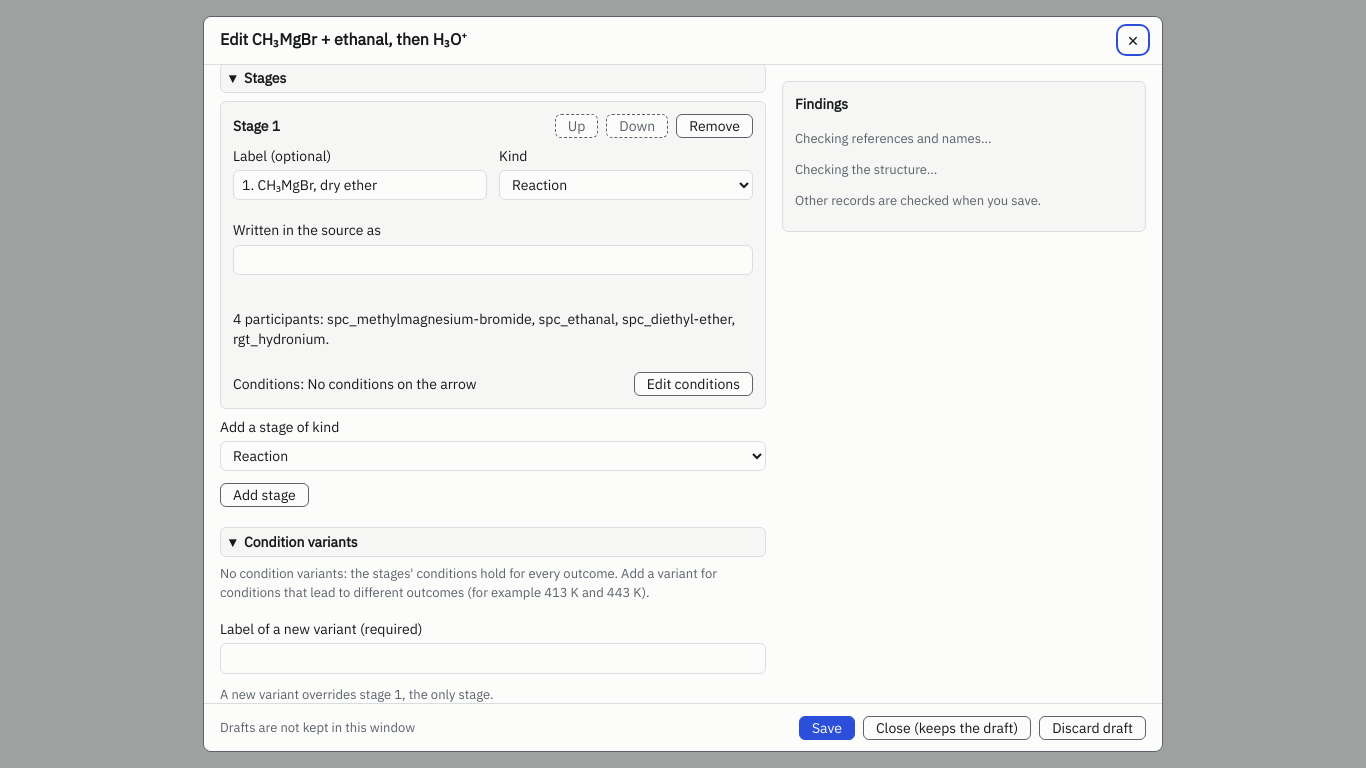
Scenario: the conditions form › pressure and time: their own units and words; time has no range
The width and height of the screenshot is (1366, 768).
(page scrolled)
Click the button with aria-label "Edit conditions of stage 1": (693, 384) [634, 372, 753, 396]
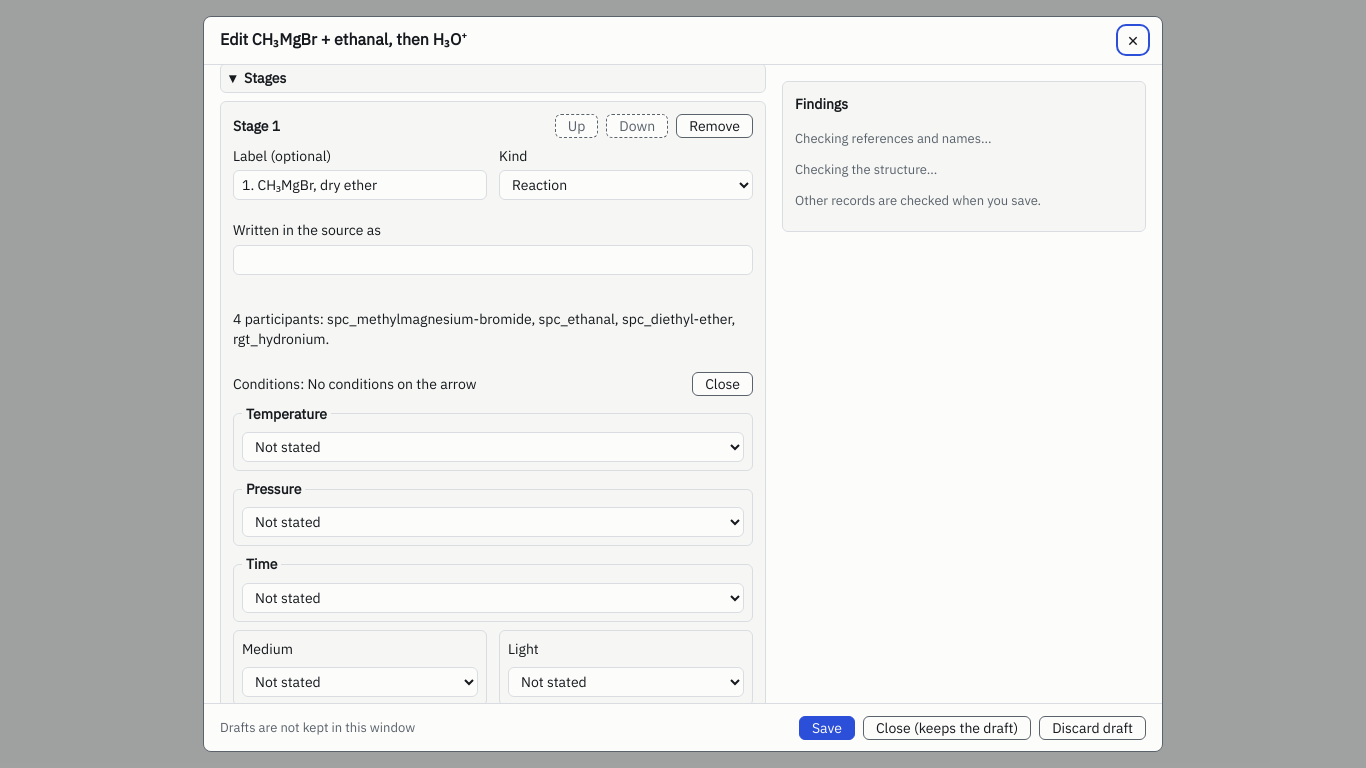
Select "A value" in the dropdown named "Pressure kind of stage 1": (493, 522) [242, 507, 744, 537]
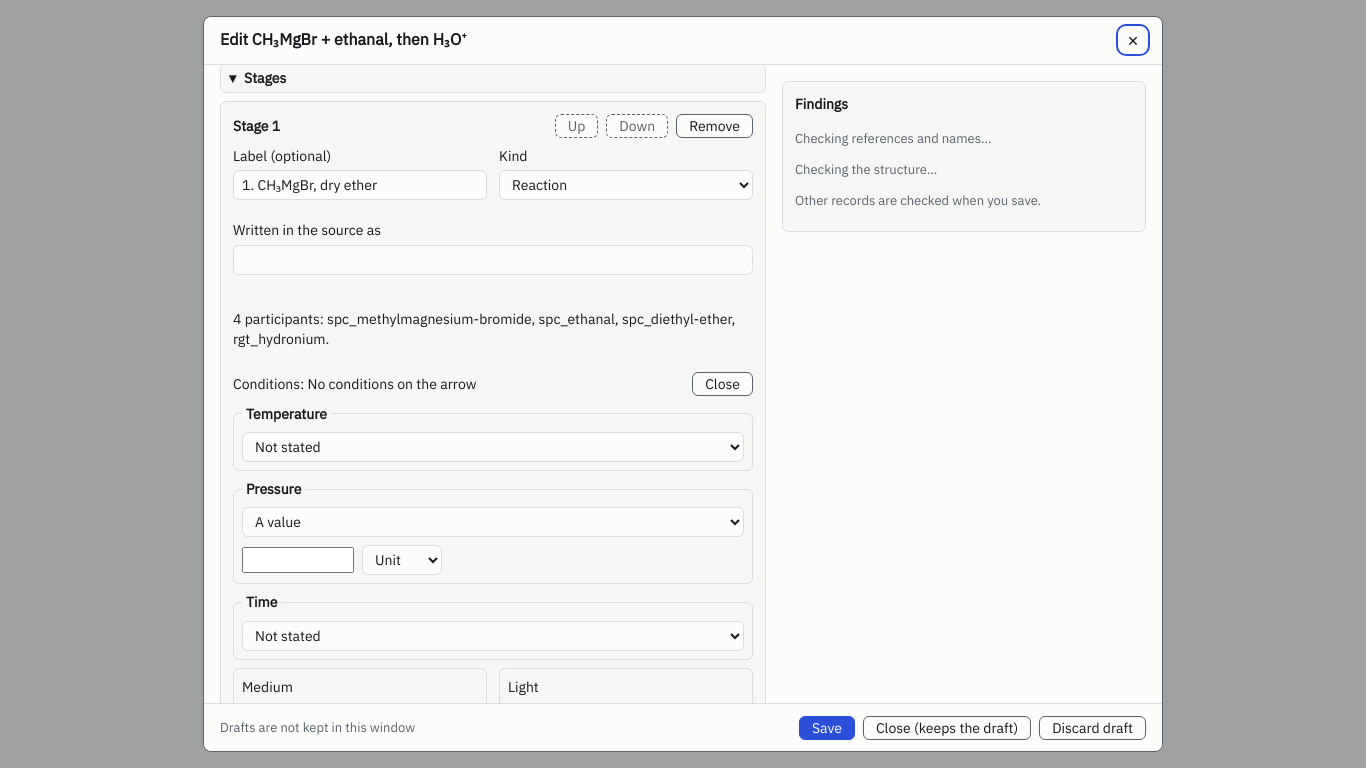
In the number field named "Pressure value of stage 1": (298, 560) [242, 547, 354, 573], type "60"
Select "atm" in the dropdown named "Pressure unit of stage 1": (402, 560) [362, 545, 442, 575]
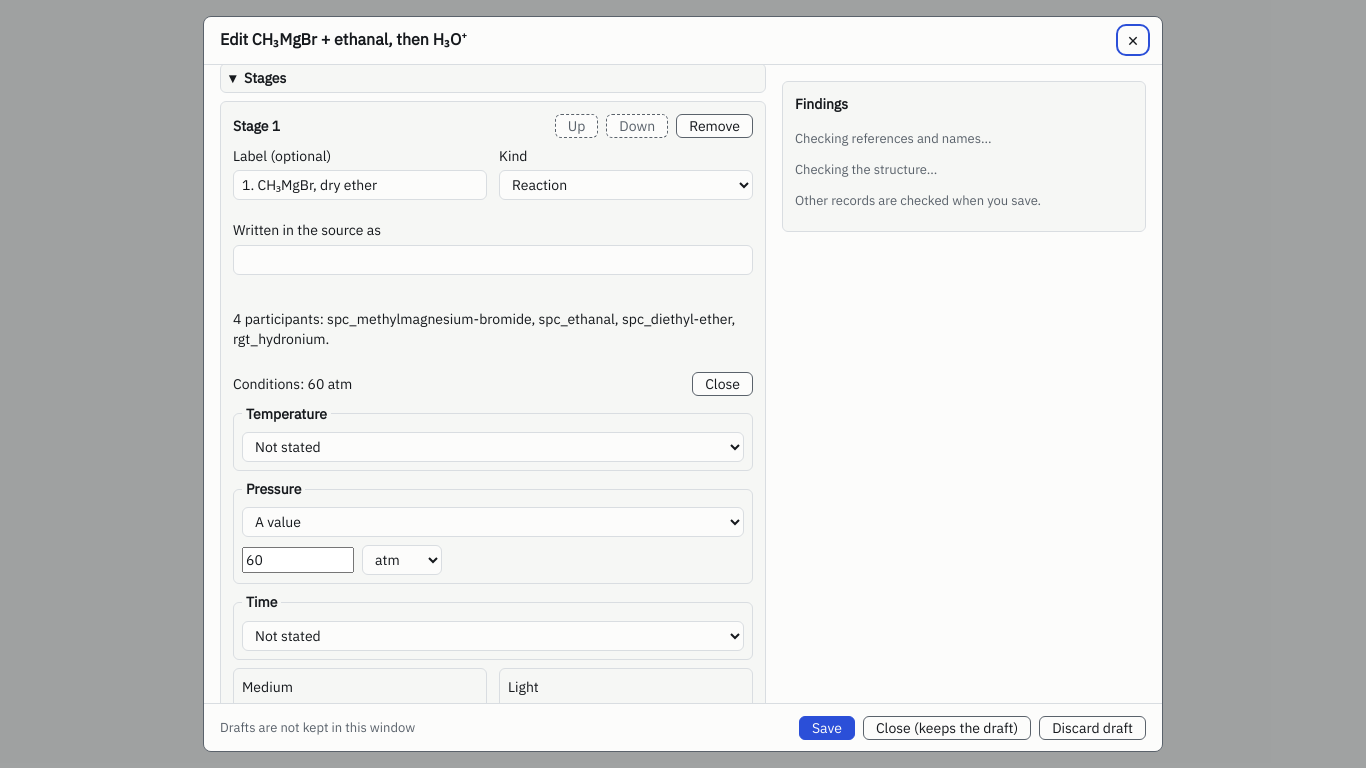
Select "A value" in the dropdown named "Time kind of stage 1": (493, 636) [242, 620, 744, 650]
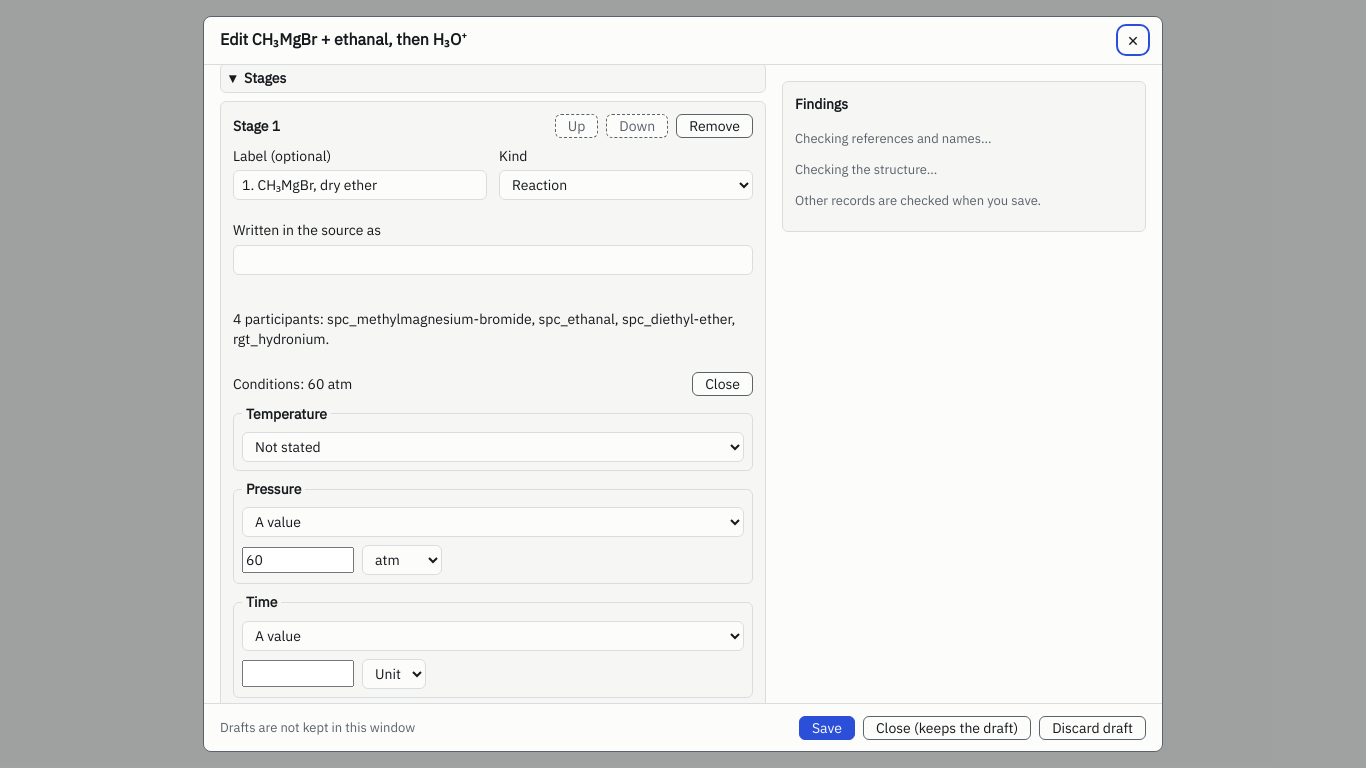
In the number field named "Time value of stage 1": (298, 674) [242, 660, 354, 687], type "2"
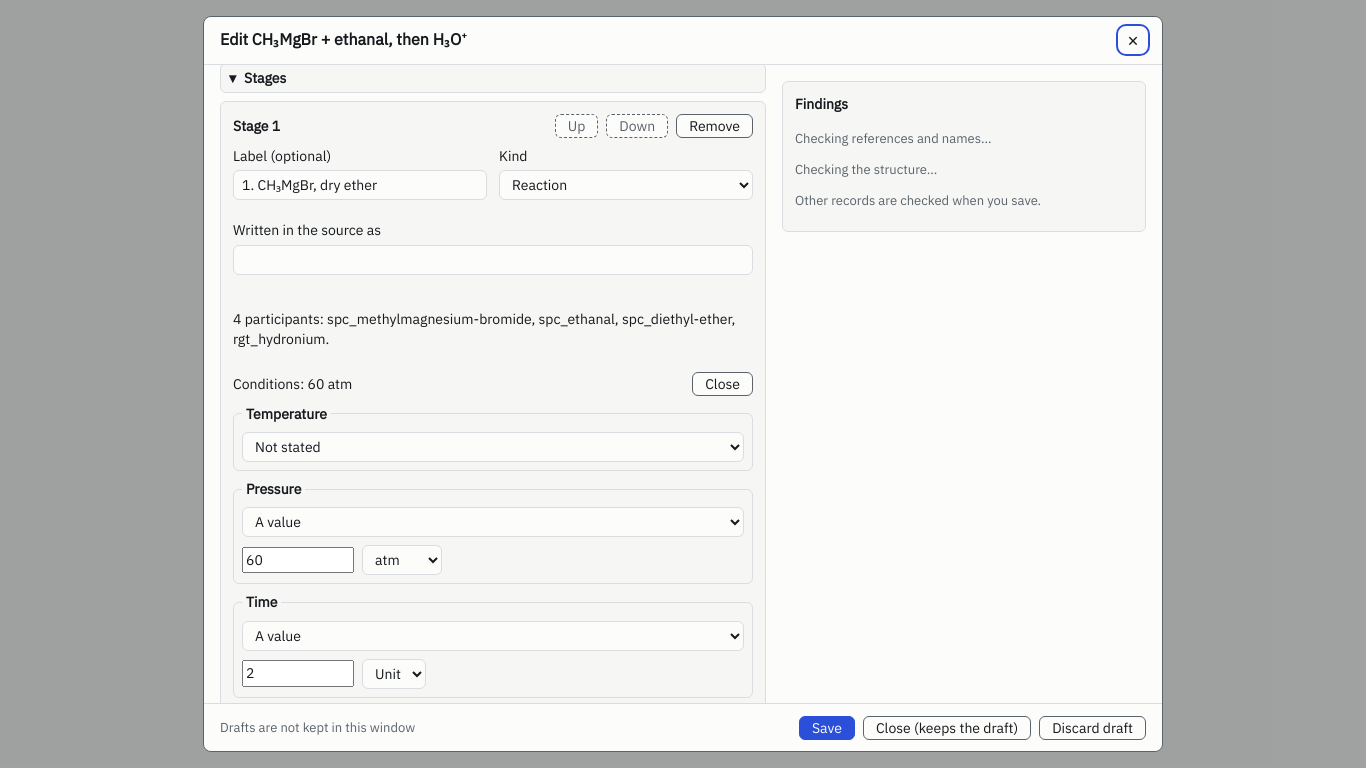
Select "h" in the dropdown named "Time unit of stage 1": (394, 674) [362, 658, 426, 688]
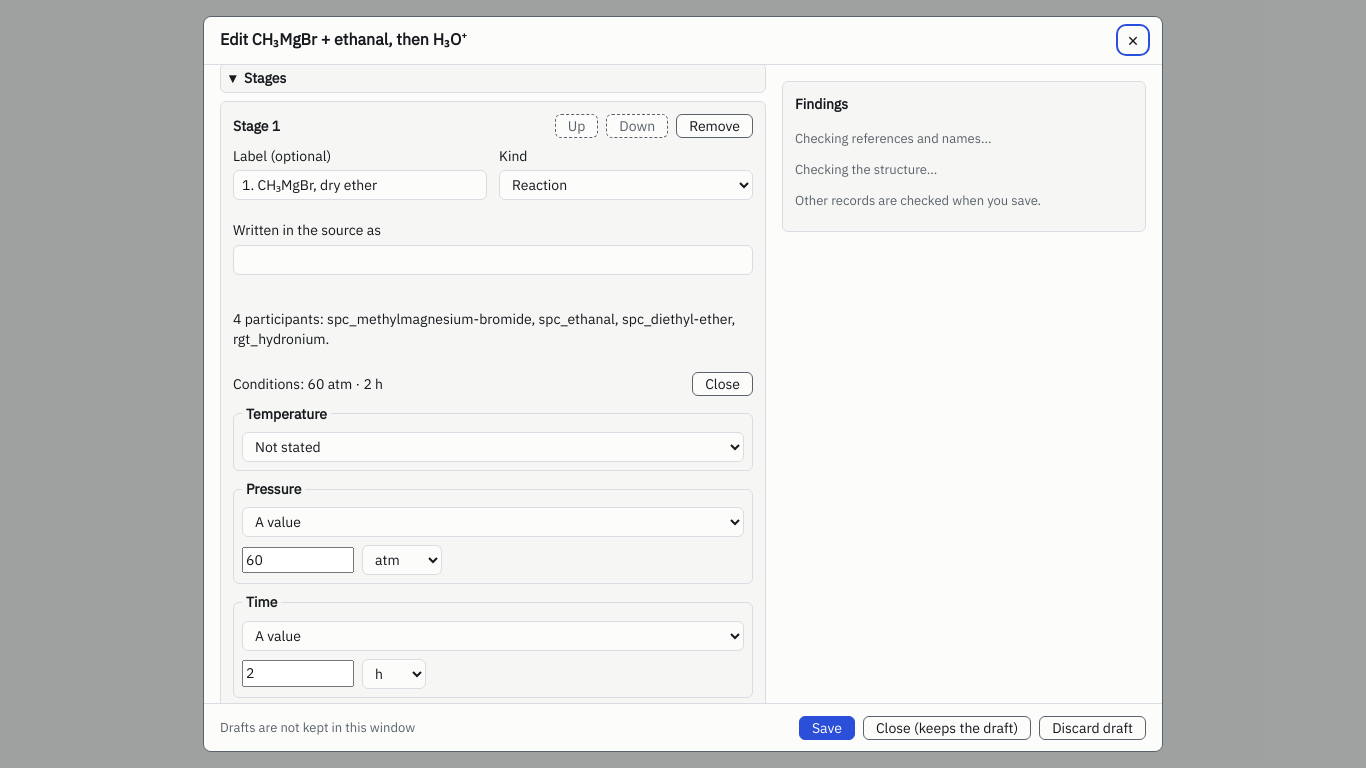
Check: the text with test id "stage-conditions" reads "Conditions: 60 atm · 2 h", box [233, 374, 383, 392]
